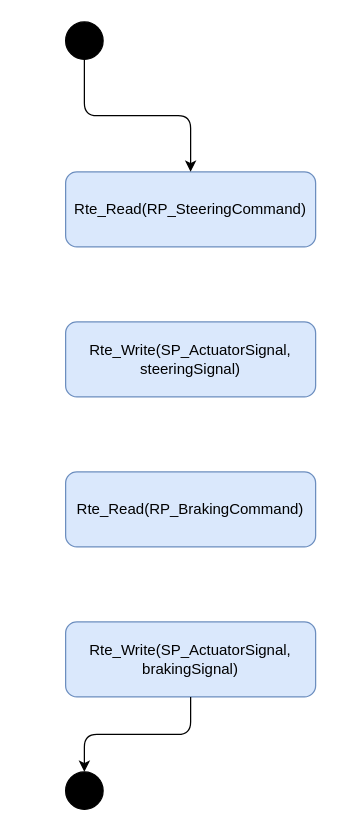
The diagram is 339 pixels wide and 831 high, and some of its shapes have lost their labels. Each missing label, with the box of its shape:
End [REQ-ARCH-0100]: (64, 771, 103, 809)
Start [REQ-ARCH-0100]: (64, 21, 103, 59)
